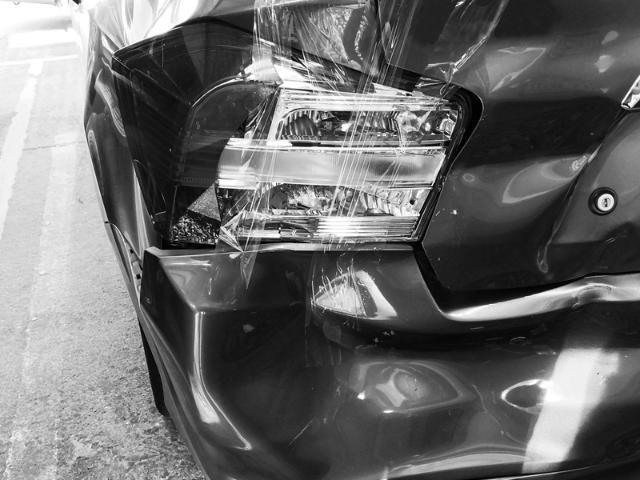Bumper: (152, 250, 640, 480)
Fender: (370, 0, 640, 251)
Light: (159, 55, 454, 256)
